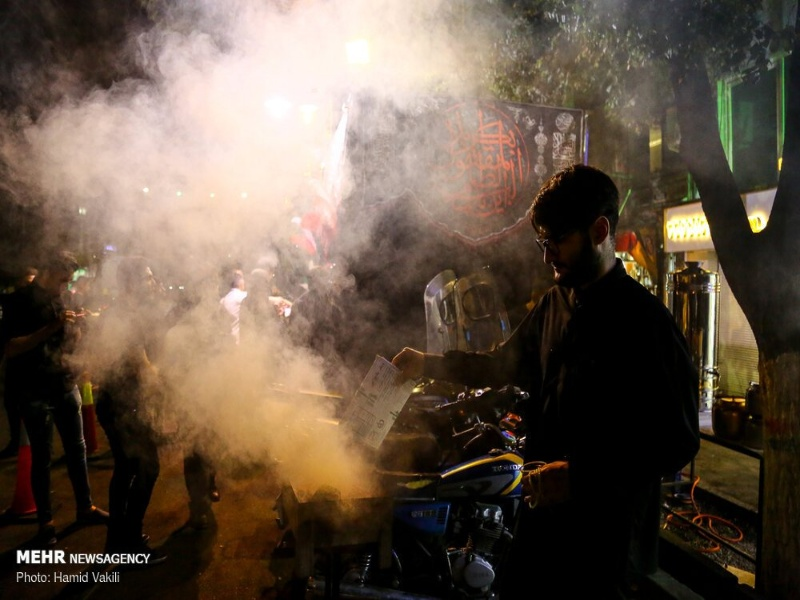smoke: (3, 14, 450, 274)
